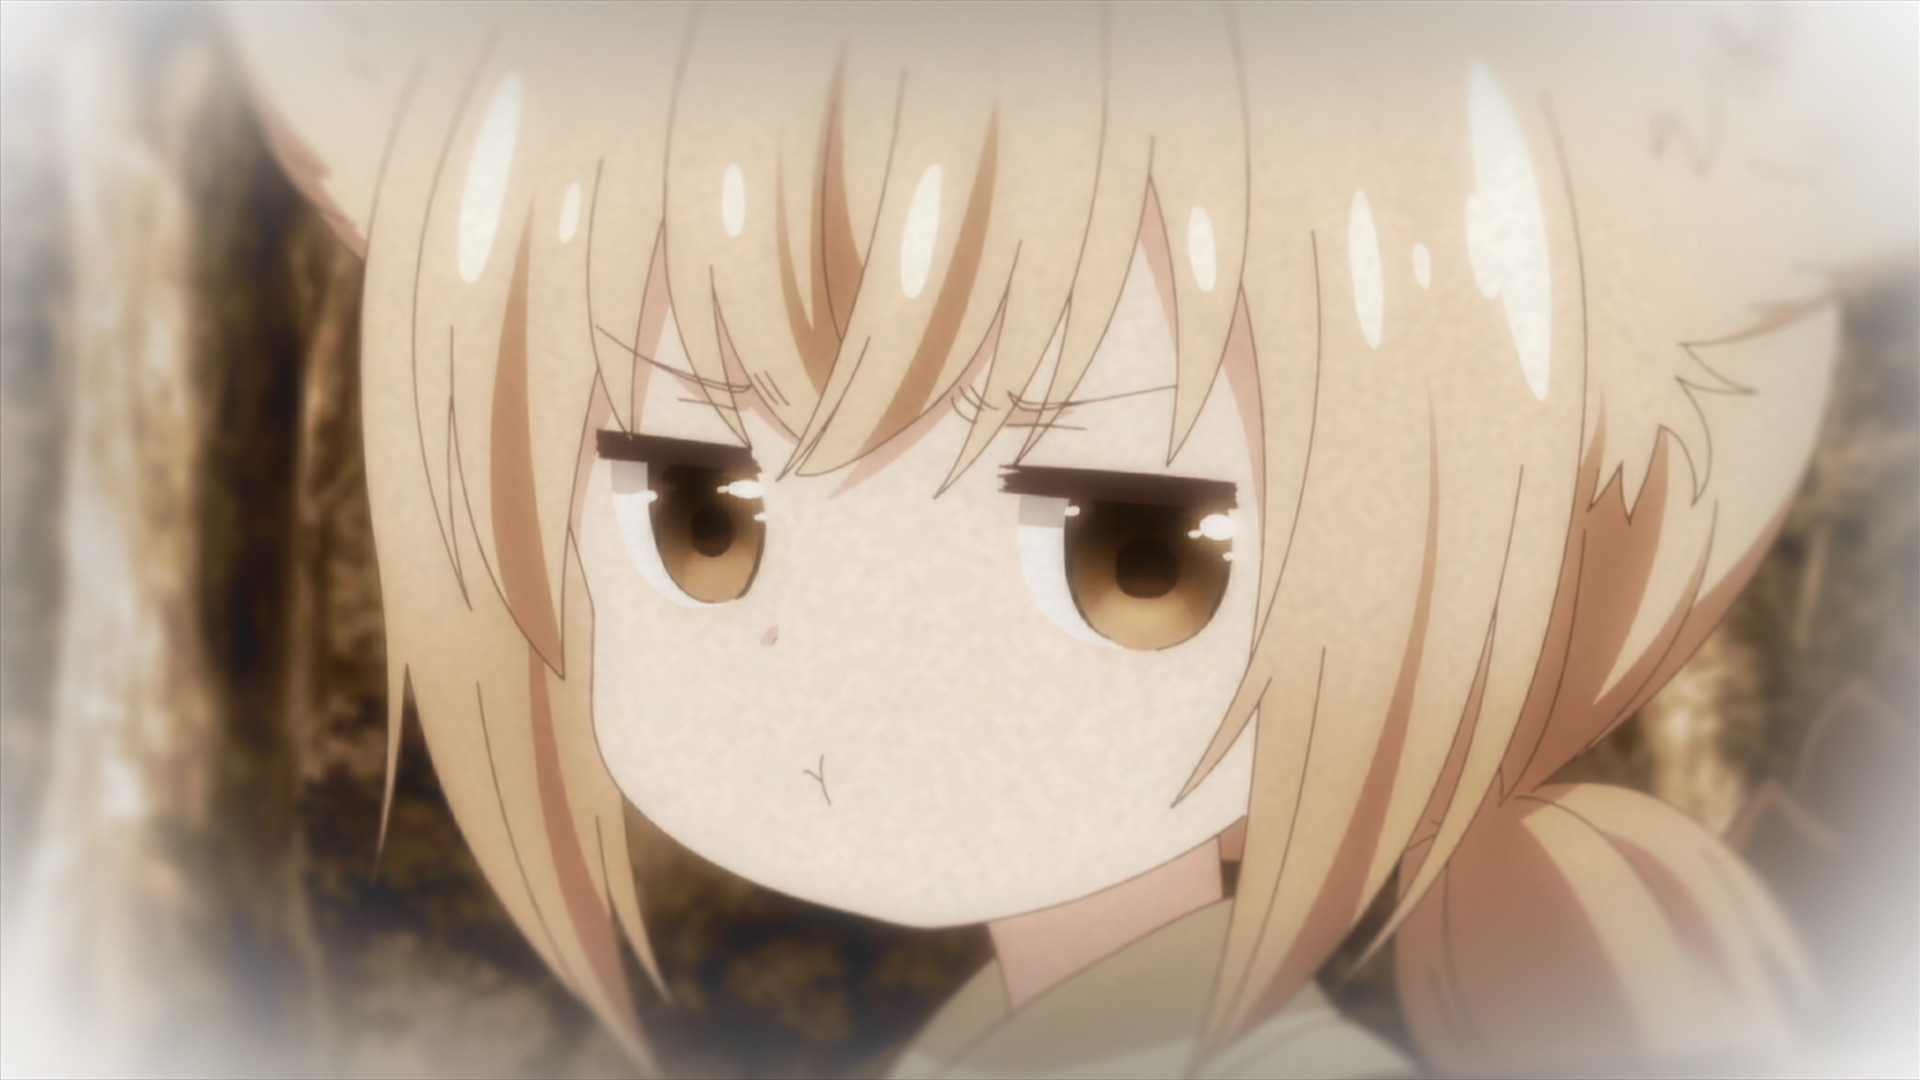柚: (214, 1, 1920, 1080)
